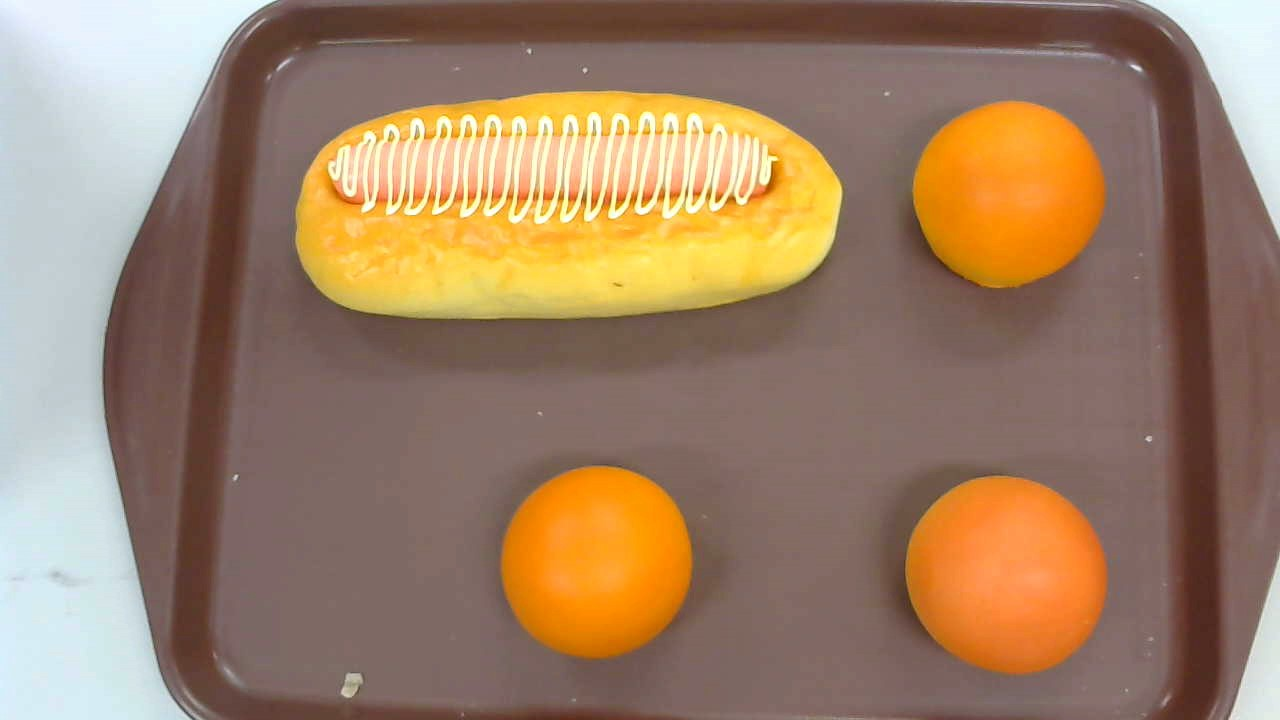bun: (903, 475, 1108, 674), (501, 463, 693, 660), (912, 98, 1104, 289)
hot dog: (293, 89, 843, 319)
